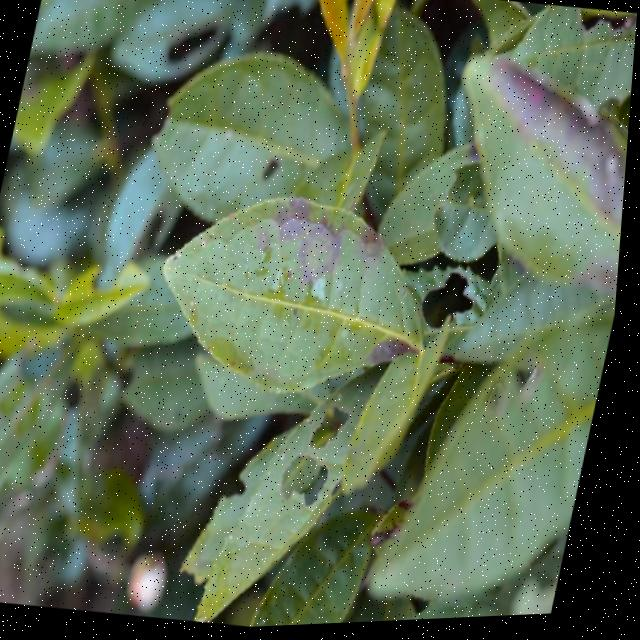Tea exobasidium blight: (242, 175, 411, 309)
